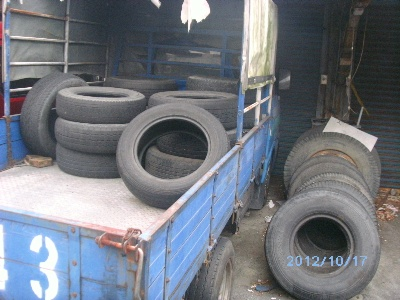tire: (265, 188, 382, 299), (115, 102, 233, 208), (53, 114, 146, 156), (54, 85, 146, 124), (53, 142, 140, 181)
